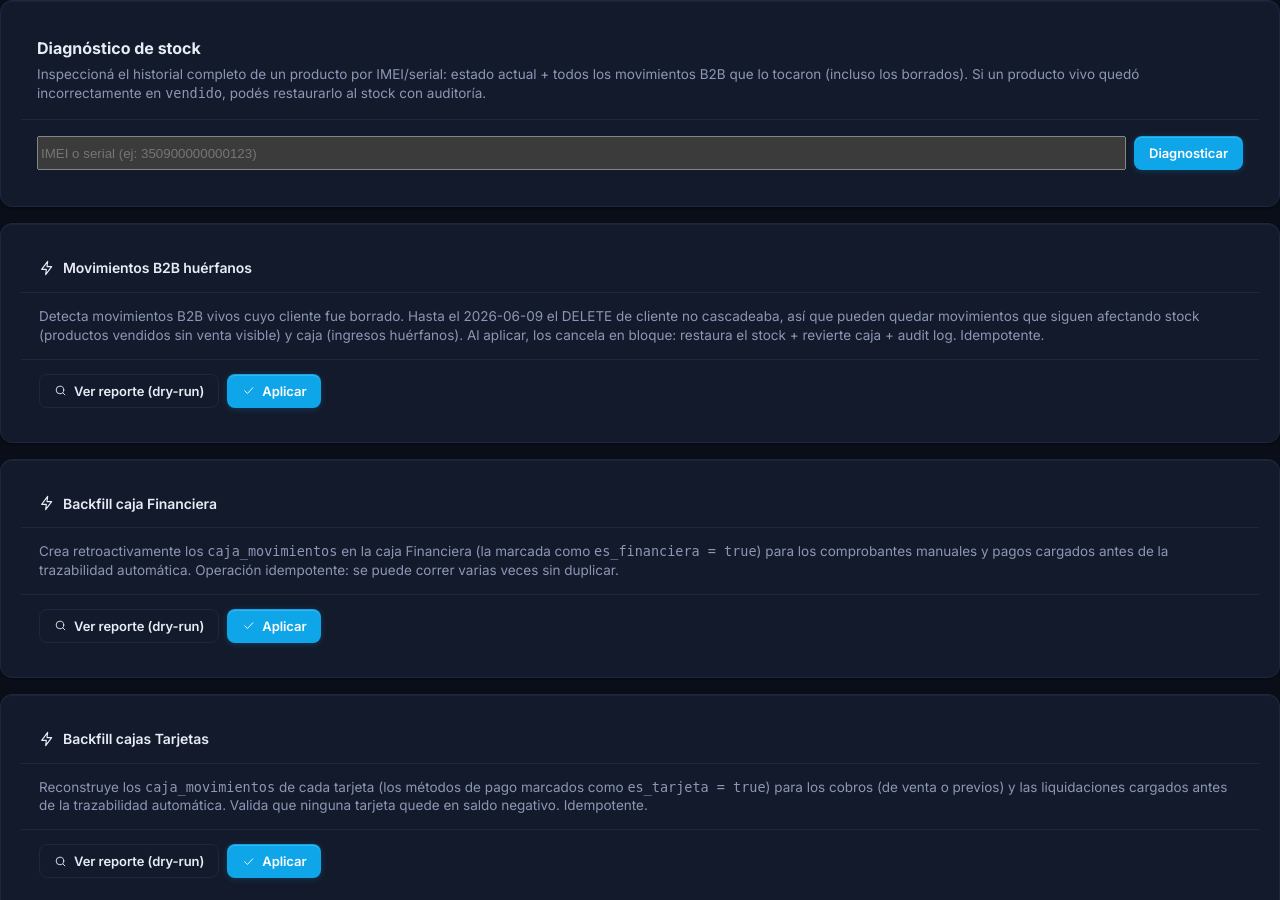
Test: MantenimientoSection — dos paneles paralelos › Tarjetas: click "Ver reporte" renderiza una fila por tarjeta
Click the button "Ver reporte (dry-run)" below "Reconstruye los" at [129, 861], box x1=39 y1=844 x2=219 y2=878
(page scrolled)
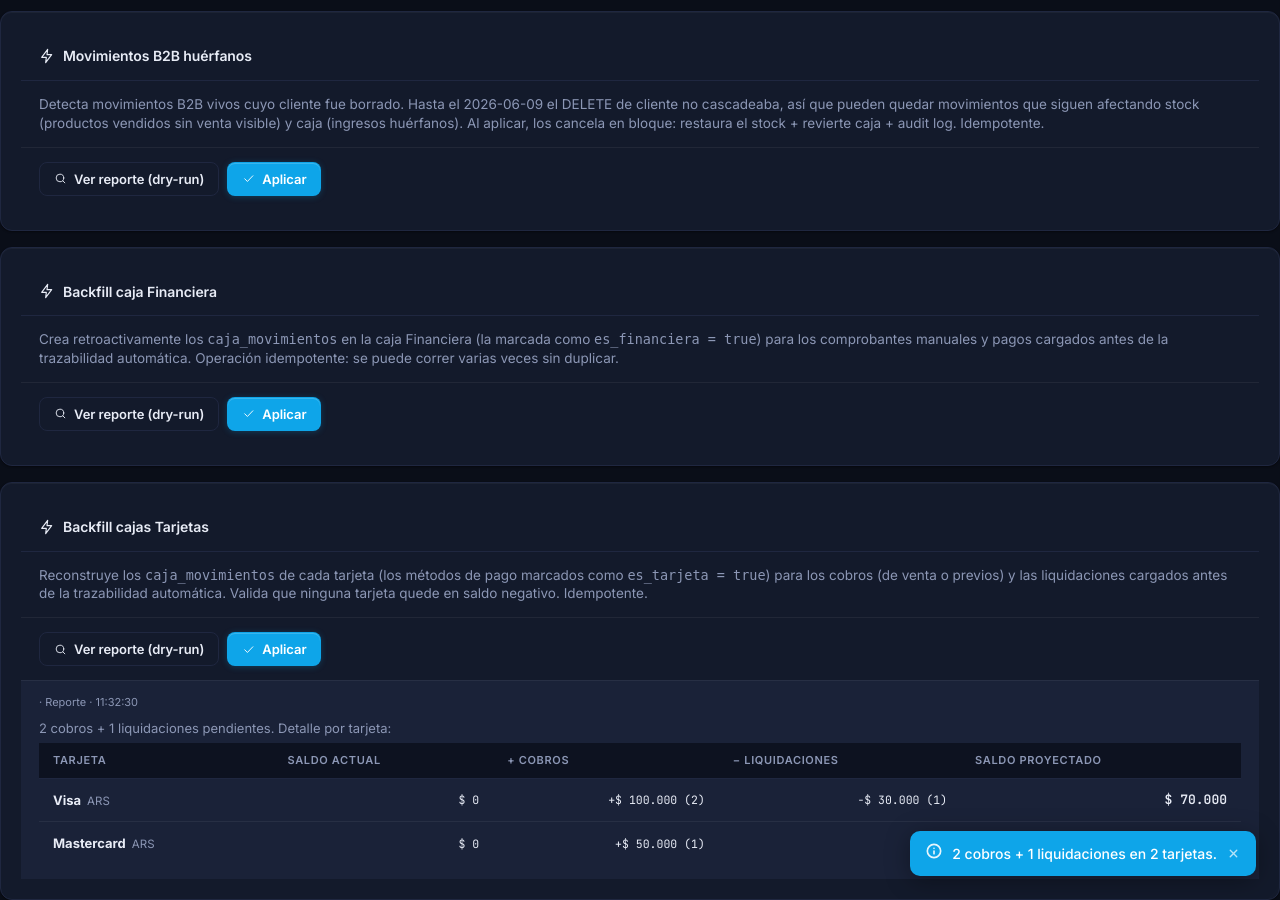
Result: the text "Visa" is shown at x1=53 y1=792 x2=81 y2=808
Result: the text "Mastercard" is shown at x1=53 y1=836 x2=126 y2=852
Result: the text "$ 70.000" is shown at x1=1165 y1=791 x2=1227 y2=810
